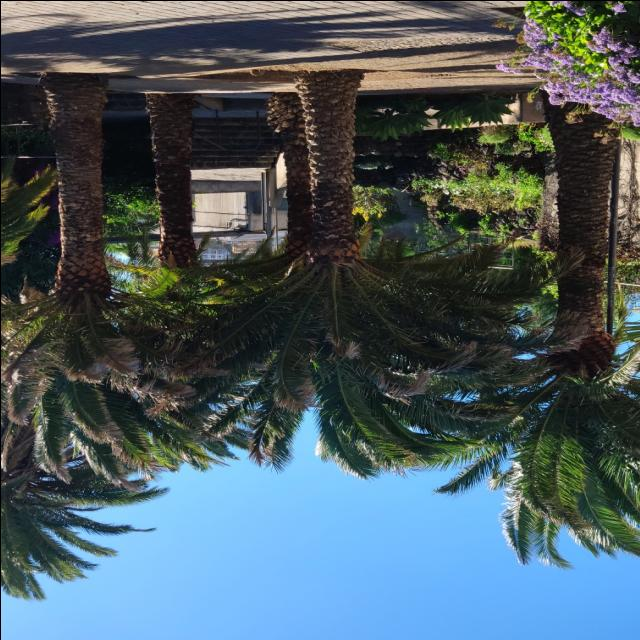Palm-Trees: (146, 70, 493, 470), (442, 89, 640, 569), (0, 74, 180, 484)
